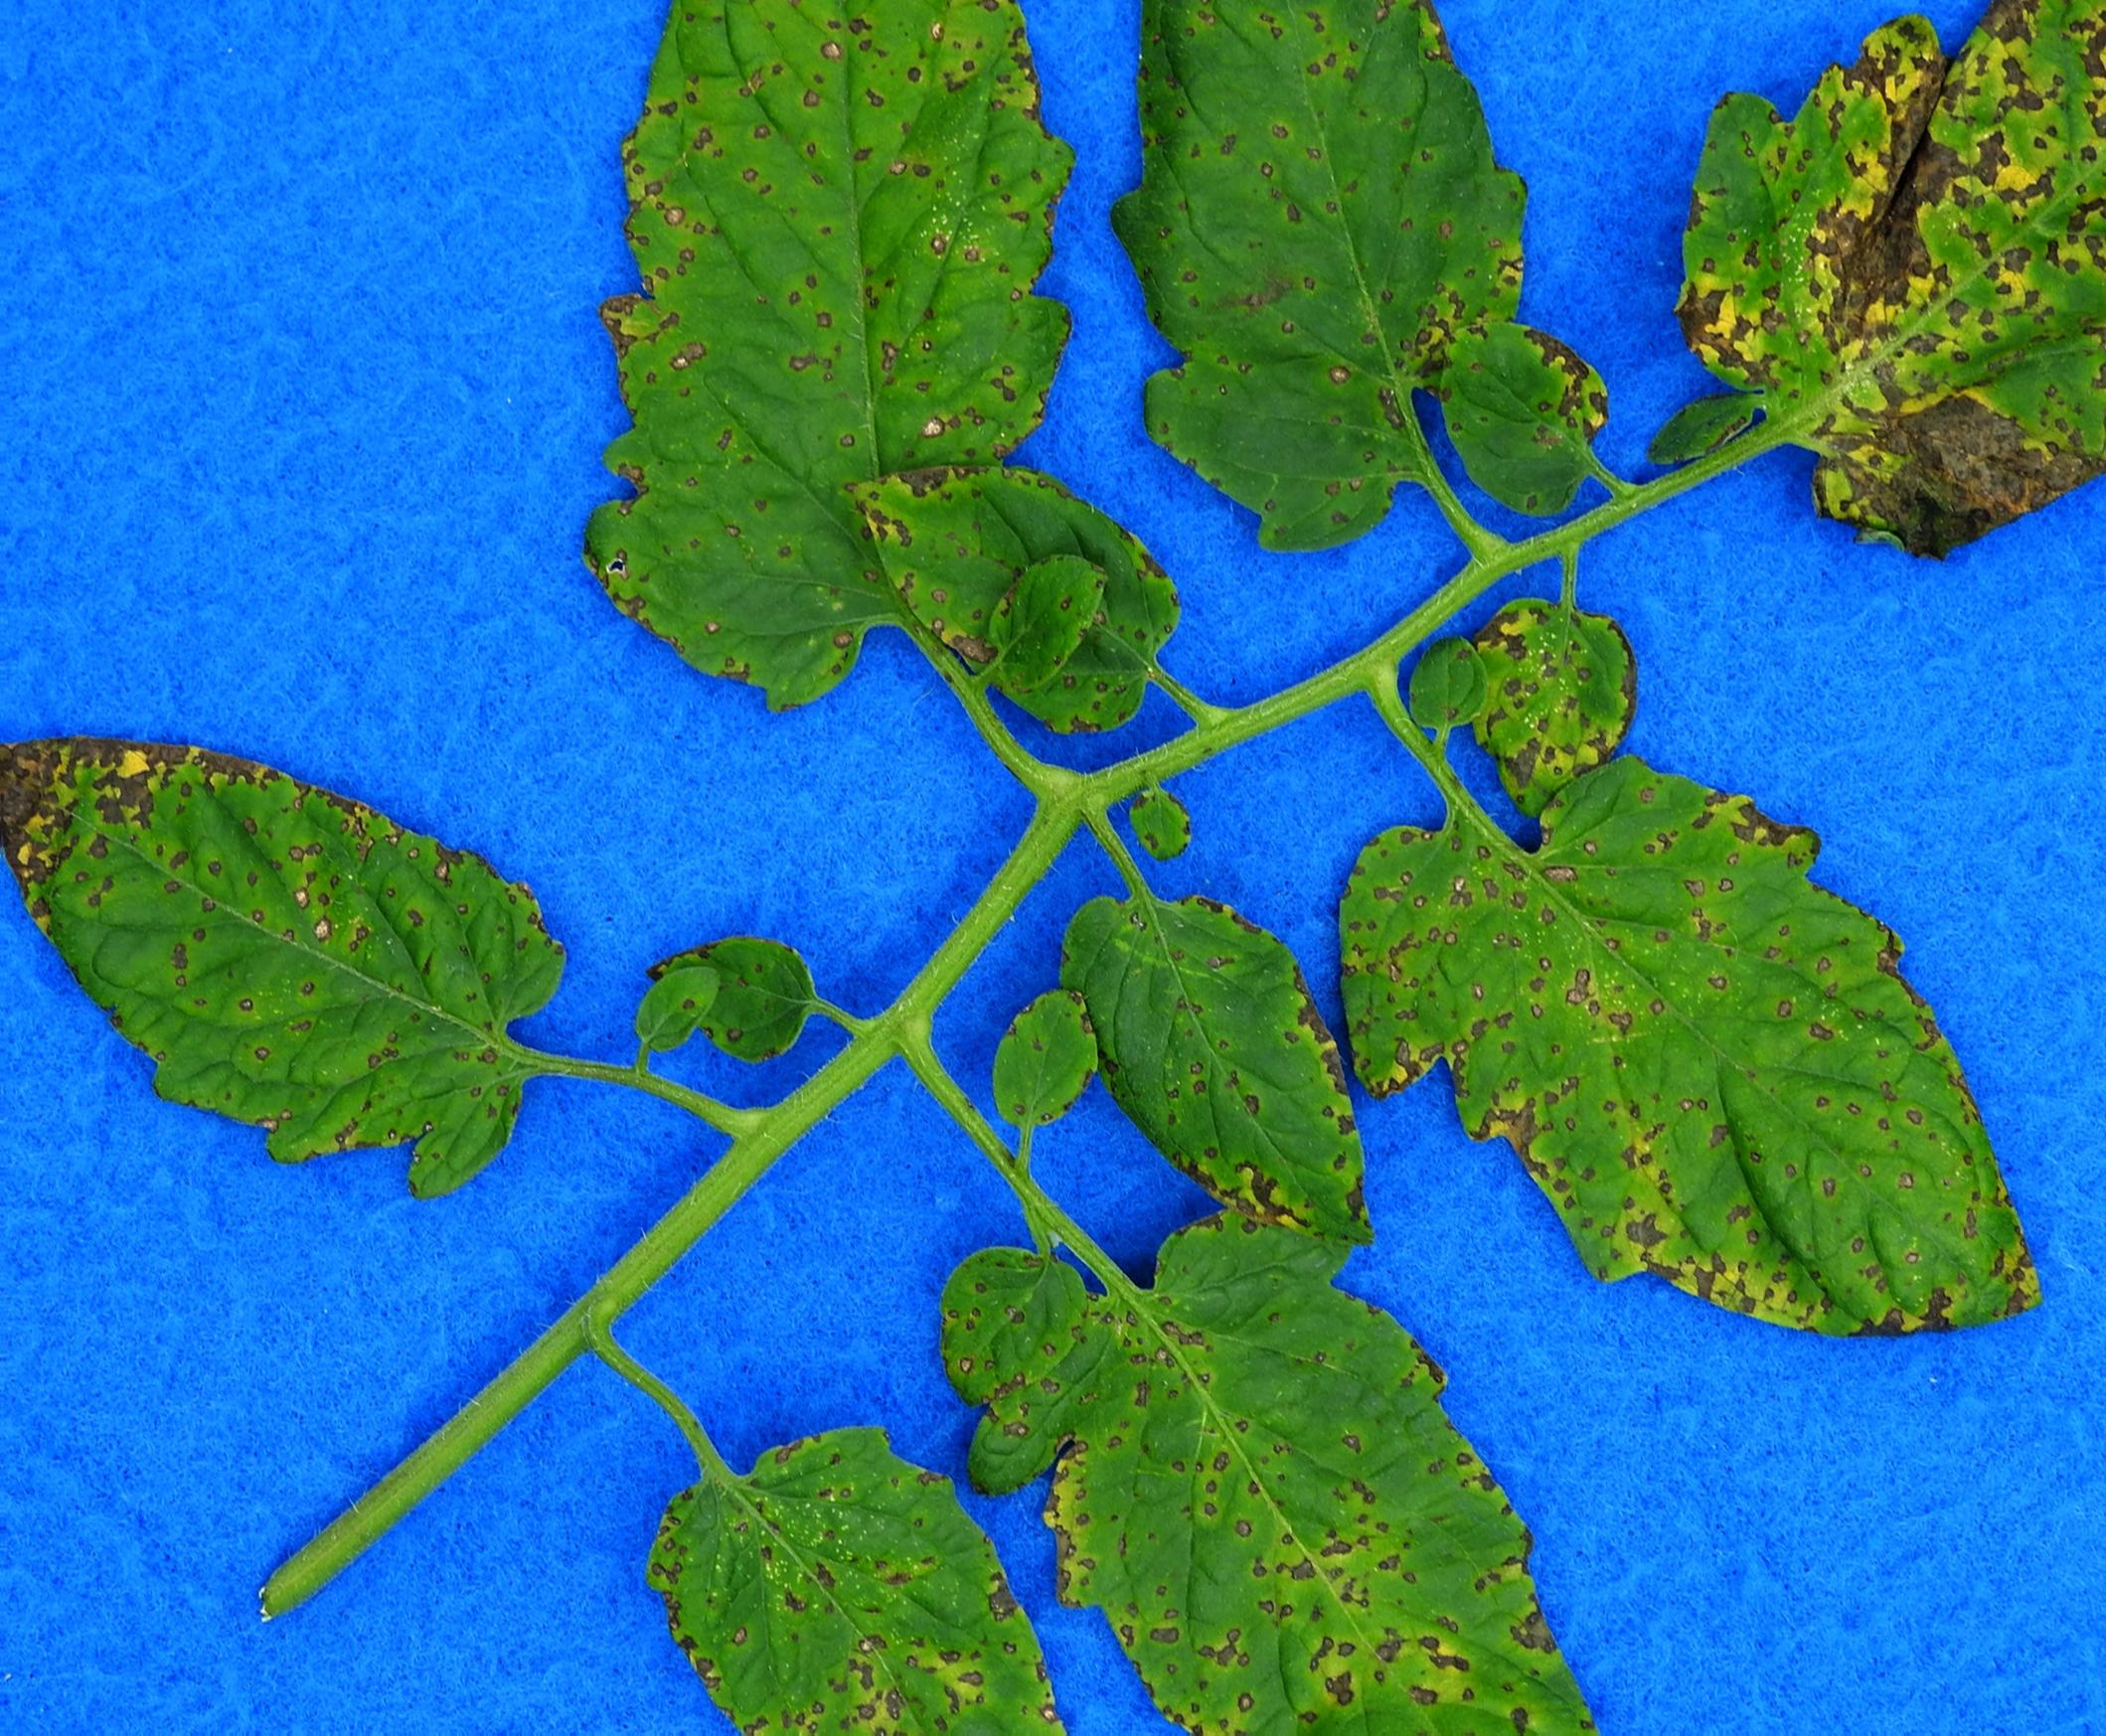Tomato Septoria leaf spot: (575, 0, 1105, 844), (1329, 748, 2038, 1364), (978, 1168, 1623, 1736), (1072, 0, 1677, 561), (0, 671, 577, 1238), (1649, 0, 2106, 607), (628, 1386, 1112, 1736), (1062, 874, 1387, 1248), (841, 449, 1233, 745)
